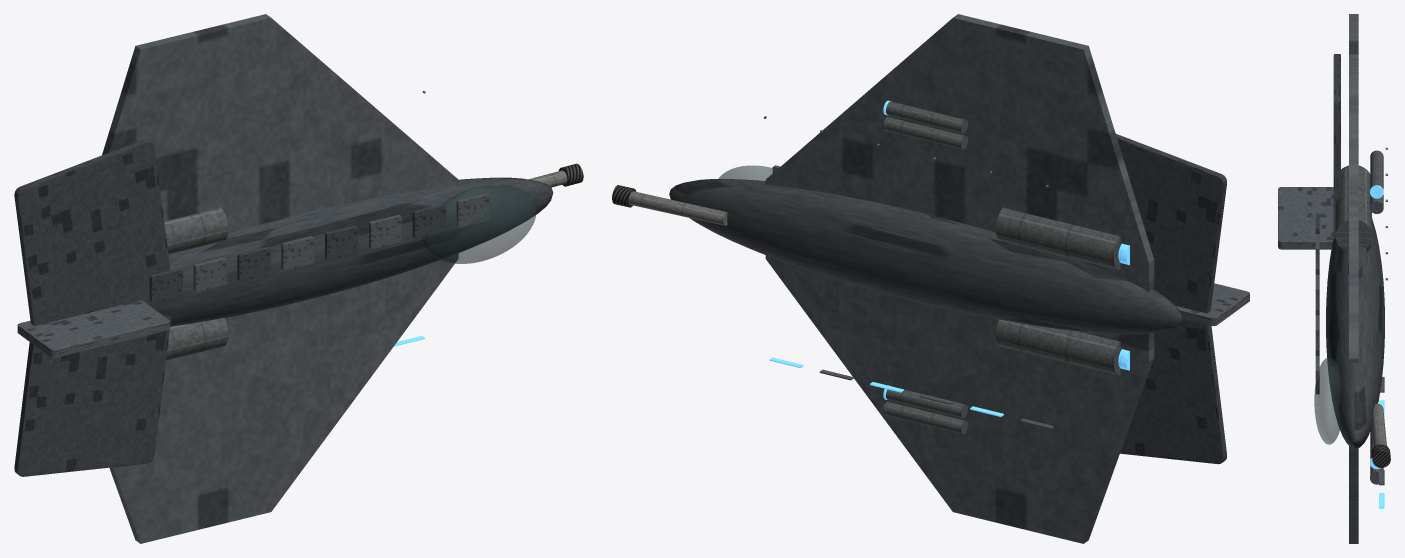
The model's file is s-u26-specter-bomber-lod0.glb.
3 views of the same model, side by side, from view 1: azimuth 30°, elevation 25°; view 2: azimuth 150°, elevation 25°; view 3: azimuth 270°, elevation 25° (orthographic). The views are drawn at different scales.
Visible parts, largest first — view 1: combat_main_wing, combat_fuselage, combat_tailplane_1, combat_tailplane_-1, combat_canopy, combat_fin_0, combat_engine_1, combat_engine_0, airframe_panel_1, airframe_panel_2, airframe_panel_6, airframe_panel_3 (+4 smaller); view 2: combat_main_wing, combat_fuselage, combat_tailplane_1, combat_tailplane_-1, combat_engine_1, combat_engine_0, combat_fin_0, combat_gun_barrel_0, combat_1_tube_1, combat_-1_tube_1, combat_1_tube_2, combat_-1_tube_2; view 3: combat_fuselage, combat_main_wing, combat_fin_0, combat_engine_1, combat_canopy, combat_tailplane_1, combat_gun_barrel_0, combat_1_tube_2, combat_gun_muzzle_0, airframe_panel_7, combat_1_cap_2, combat_1_cap_1.
Part boxes in pixels (box(x1,y1,x2,y2)): combat_main_wing: box(102, 14, 458, 543); combat_fuselage: box(137, 177, 553, 326); combat_tailplane_1: box(14, 139, 170, 325); combat_tailplane_-1: box(14, 315, 171, 476); combat_canopy: box(423, 184, 536, 263); combat_fin_0: box(17, 300, 169, 357); combat_engine_1: box(164, 207, 228, 254); combat_engine_0: box(166, 318, 228, 360); airframe_panel_1: box(193, 257, 226, 292); airframe_panel_2: box(237, 246, 270, 281); airframe_panel_6: box(412, 204, 445, 238); airframe_panel_3: box(281, 236, 314, 270); combat_main_wing: box(765, 14, 1154, 543); combat_fuselage: box(669, 179, 1182, 334); combat_tailplane_1: box(1116, 134, 1226, 313); combat_tailplane_-1: box(1120, 319, 1226, 464); combat_engine_1: box(995, 207, 1120, 269); combat_engine_0: box(995, 319, 1120, 375); combat_fin_0: box(1176, 283, 1249, 326); combat_gun_barrel_0: box(628, 191, 727, 225); combat_1_tube_1: box(886, 117, 967, 149); combat_-1_tube_1: box(886, 402, 967, 434); combat_1_tube_2: box(886, 101, 967, 133); combat_-1_tube_2: box(886, 389, 967, 418); combat_fuselage: box(1326, 218, 1384, 448); combat_main_wing: box(1349, 14, 1358, 543); combat_fin_0: box(1278, 187, 1333, 249); combat_engine_1: box(1335, 165, 1371, 249); combat_canopy: box(1314, 357, 1340, 444); combat_tailplane_1: box(1333, 54, 1340, 240); combat_gun_barrel_0: box(1371, 403, 1386, 446); combat_1_tube_2: box(1370, 150, 1383, 189); combat_gun_muzzle_0: box(1371, 444, 1390, 467); airframe_panel_7: box(1315, 356, 1319, 393); combat_1_cap_2: box(1370, 185, 1383, 198); combat_1_cap_1: box(1370, 200, 1383, 213).
Size of what is drawn, in the model's own units: 15.96 by 12.87 by 2.8.
Materials: 7 (7 with a texture image).
